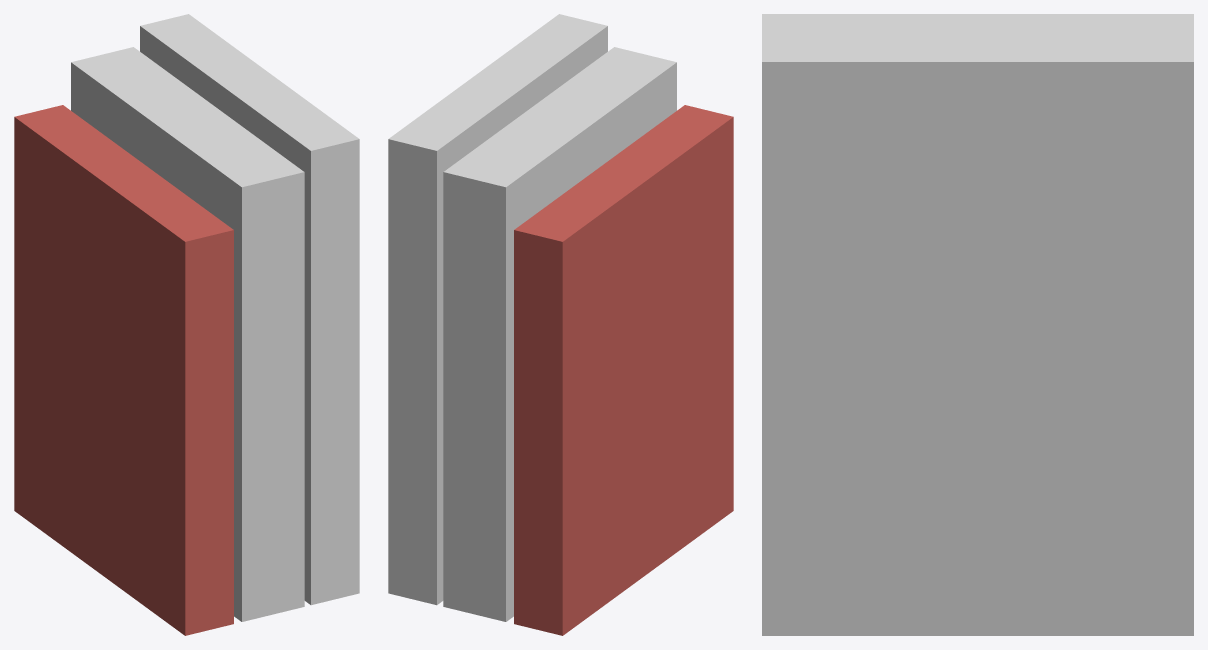
File: kirjat2.fbx
3 views of the same model, side by side, from view 1: azimuth 30°, elevation 25°; view 2: azimuth 150°, elevation 25°; view 3: azimuth 270°, elevation 25° (orthographic). The views are drawn at different scales.
Parts seen in each view (by area): view 1: Cube.001; view 2: Cube.001; view 3: Cube.001.
Boxes of the visible parts, box(x1,y1,x2,y2) form: Cube.001: box(14, 14, 359, 635); Cube.001: box(388, 14, 733, 635); Cube.001: box(762, 14, 1193, 635).
Size of the model in its own units: 0.3308 by 0.8229 by 0.5612.
